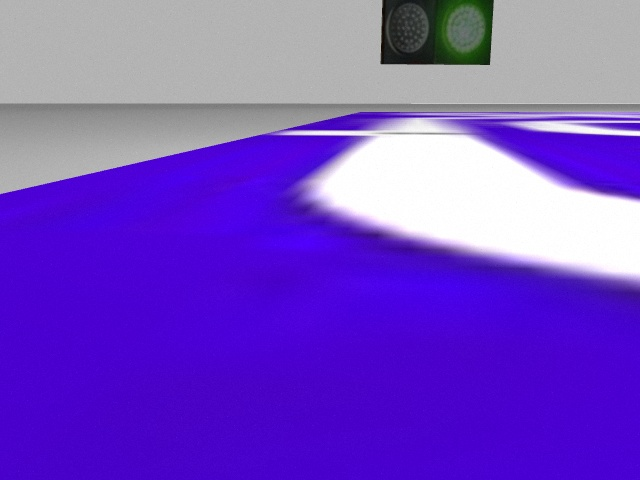green: (439, 2, 495, 69)
